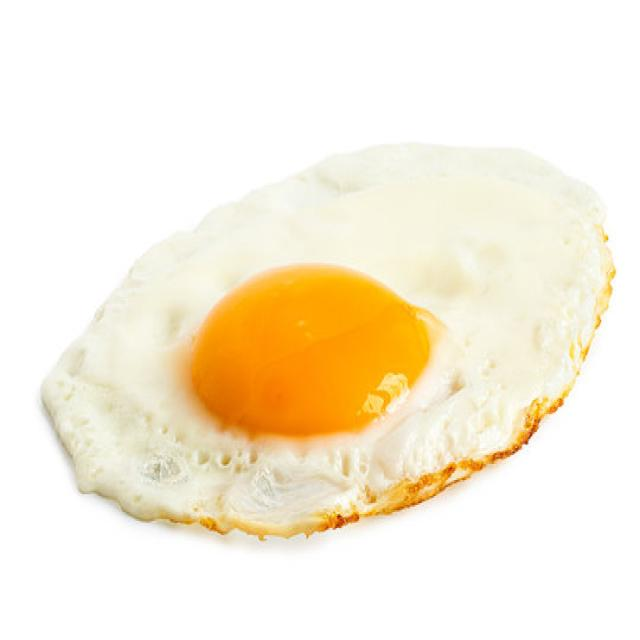Egg: (42, 144, 614, 536)
